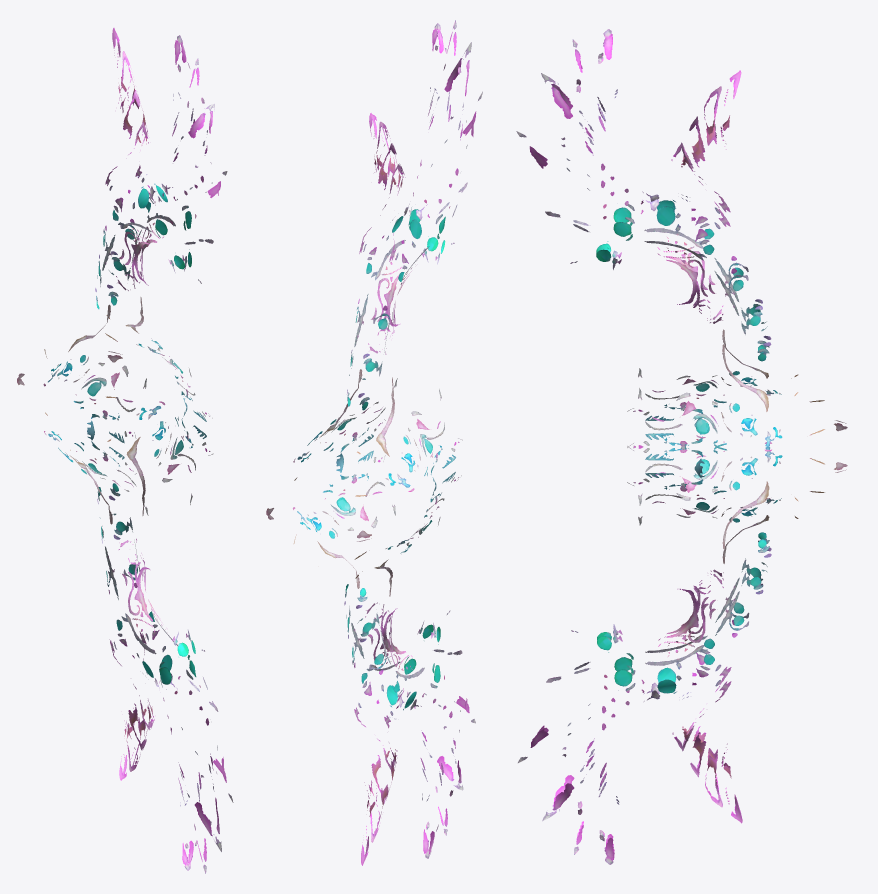
3 views of the same model, side by side, from view 1: azimuth 30°, elevation 25°; view 2: azimuth 150°, elevation 25°; view 3: azimuth 270°, elevation 25° (orthographic).
Bounding box in the file's own units: 0.5894 × 2.99 × 1.1.
1 material, 1 textured.
